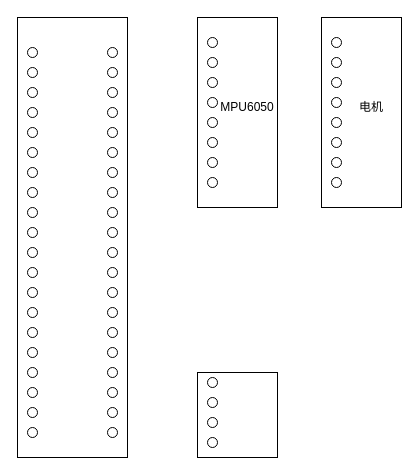
Some shapes in this 419 by 475 pixel diagram are drawn without their labels. The centre of each missing label's shape, as x and y in pixels:
"STM32" goes at (x=72, y=237).
"UART1" goes at (x=237, y=415).
